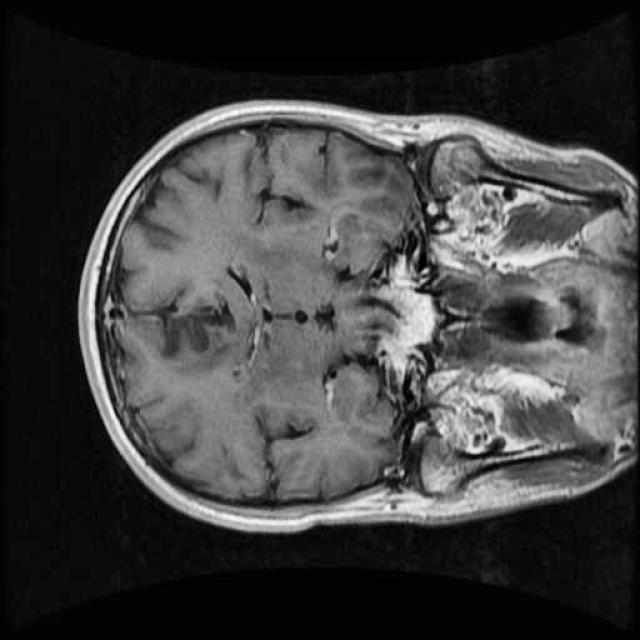Tumor: (173, 297, 247, 358)
